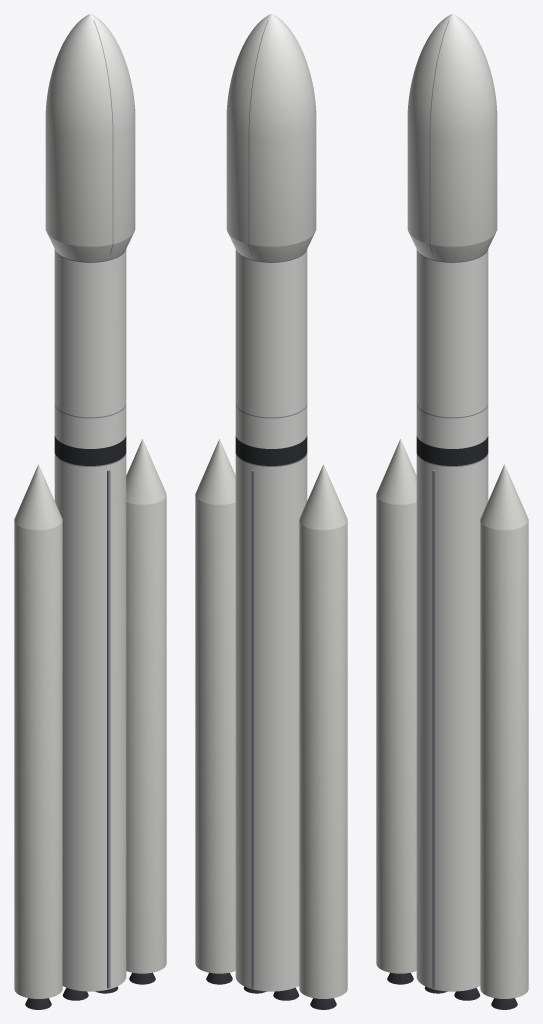
3 views of the same model, side by side, from view 1: azimuth 30°, elevation 25°; view 2: azimuth 150°, elevation 25°; view 3: azimuth 330°, elevation 25° (orthographic).
Parts seen in each view (by area): view 1: lm8; view 2: lm8; view 3: lm8.
Boxes of the visible parts, left/top/right/bottom form: lm8: left=14, top=14, right=166, bottom=1009; lm8: left=195, top=14, right=347, bottom=1009; lm8: left=376, top=14, right=528, bottom=1009.
Bounding box in the file's own units: 7.85 × 50.3 × 4.21.
1 material, 1 textured.
